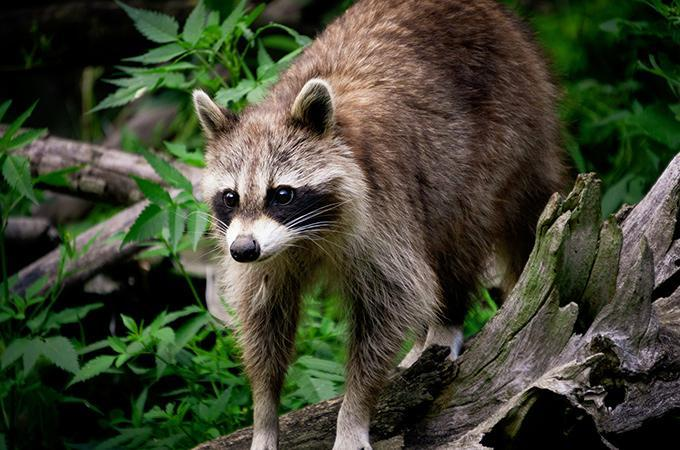raccoon: (189, 0, 584, 450)
